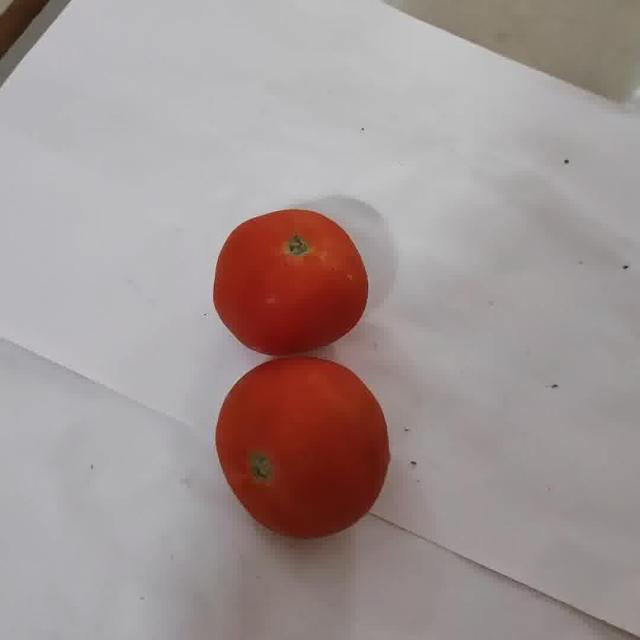Tomato: (216, 358, 388, 538), (213, 210, 367, 356)
